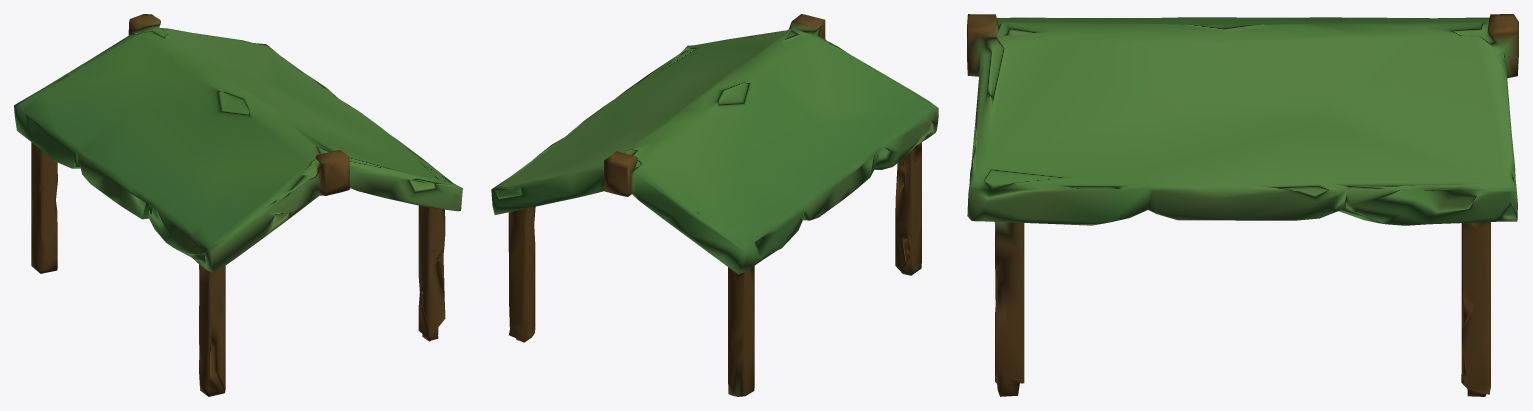
Rendered from gen3d-awning-lod0.glb.
The picture shows the model from 3 angles, left to right: view 1: azimuth 30°, elevation 25°; view 2: azimuth 150°, elevation 25°; view 3: azimuth 270°, elevation 25°; orthographic projection. The views are drawn at different scales.
Parts seen in each view (by area): view 1: part_0; view 2: part_0; view 3: part_0.
Part boxes in pixels (box(x1,y1,x2,y2)): part_0: box(14, 14, 462, 396); part_0: box(491, 14, 938, 396); part_0: box(967, 14, 1518, 396).
Size of the model in its own units: 1.22 by 1 by 1.66.
